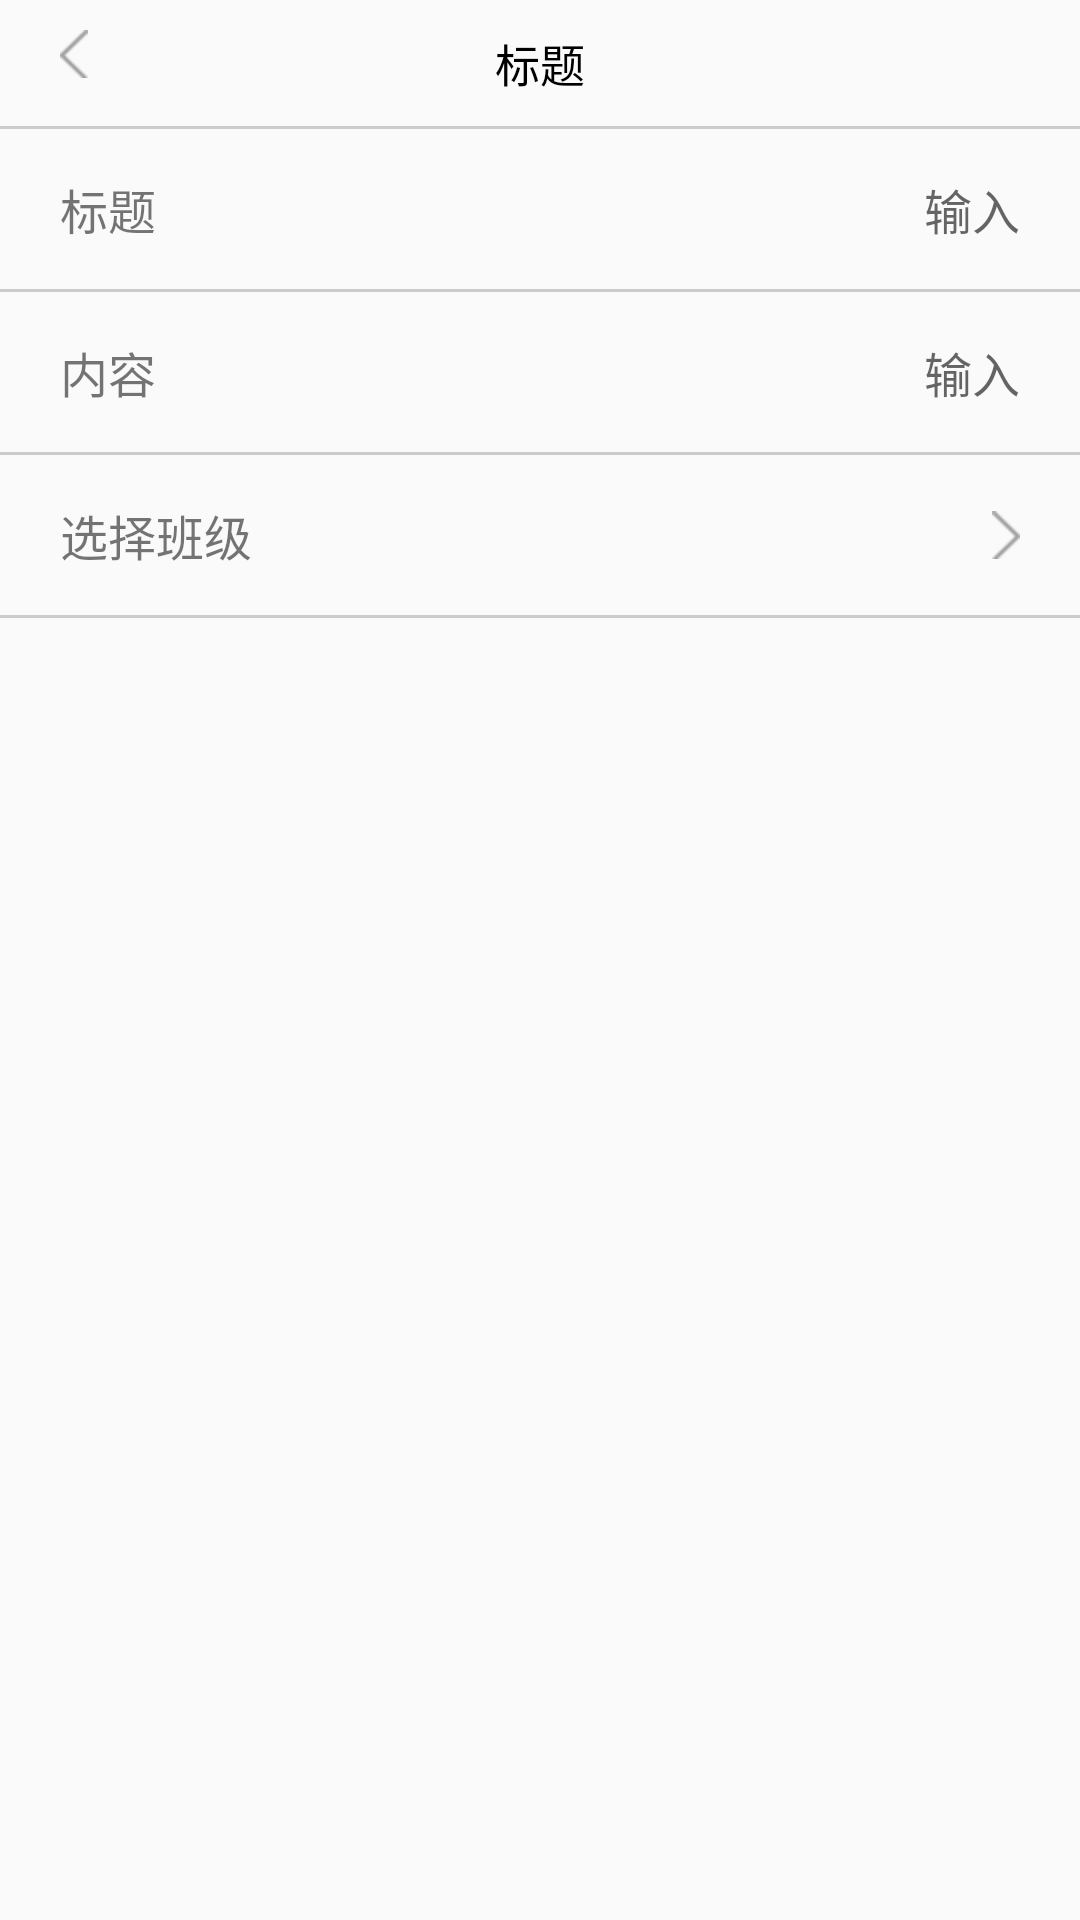

Screen size 1080px×1920px. Icon name, then its center in pixels as [x,y]:
back: [74,54]
next: [1006,535]
